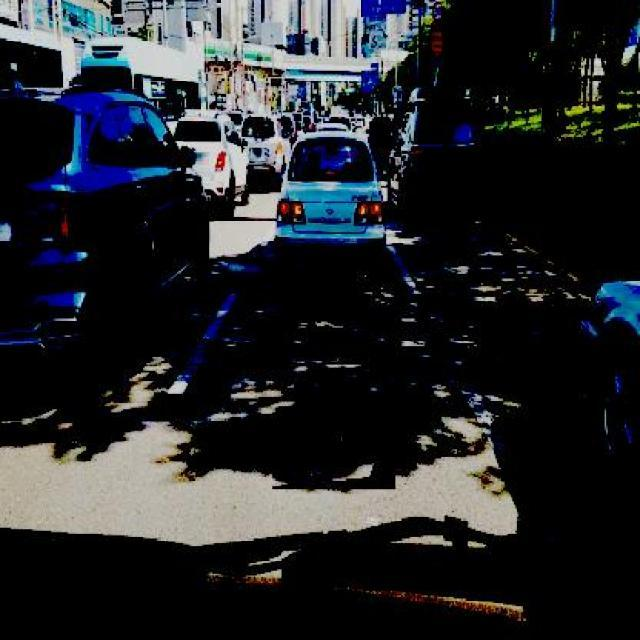Manhole: (272, 406, 396, 489)
